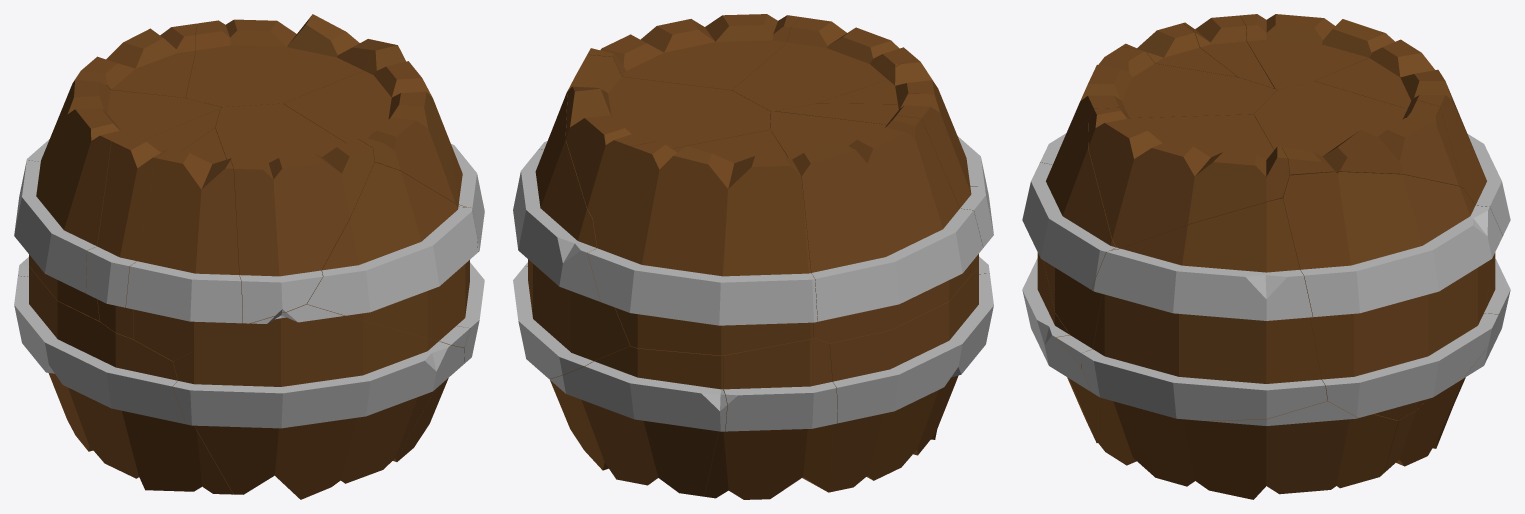
File: LowPolyKegShattered2.fbx
3 views of the same model, side by side, from view 1: azimuth 30°, elevation 25°; view 2: azimuth 150°, elevation 25°; view 3: azimuth 270°, elevation 25° (orthographic). The views are drawn at different scales.
Visible parts, largest first — view 1: Cylinder.002_cell.001, Cylinder.002_cell.013, Cylinder.002_cell.008, Cylinder.002_cell.014, Cylinder.002_cell.005, Cylinder.002_cell.011, Cylinder.002_cell.007, Cylinder.002_cell.002, Cylinder.002_cell.006, Cylinder.002_cell.004, Cylinder.002_cell, Cylinder.002_cell.003; view 2: Cylinder.002_cell.004, Cylinder.002_cell.011, Cylinder.002_cell.008, Cylinder.002_cell.012, Cylinder.002_cell.010, Cylinder.002_cell.009, Cylinder.002_cell.007, Cylinder.002_cell.002, Cylinder.002_cell.013, Cylinder.002_cell.006, Cylinder.002_cell.014; view 3: Cylinder.002_cell.010, Cylinder.002_cell, Cylinder.002_cell.003, Cylinder.002_cell.002, Cylinder.002_cell.007, Cylinder.002_cell.005, Cylinder.002_cell.013, Cylinder.002_cell.004, Cylinder.002_cell.011, Cylinder.002_cell.012, Cylinder.002_cell.001, Cylinder.002_cell.006 (+1 smaller).
Part boxes in pixels (box(x1,y1,x2,y2)): Cylinder.002_cell.001: box(172, 304, 464, 499); Cylinder.002_cell.013: box(215, 103, 374, 323); Cylinder.002_cell.008: box(14, 266, 233, 494); Cylinder.002_cell.014: box(126, 128, 242, 361); Cylinder.002_cell.005: box(307, 162, 477, 347); Cylinder.002_cell.011: box(14, 79, 221, 321); Cylinder.002_cell.007: box(186, 14, 390, 107); Cylinder.002_cell.002: box(283, 43, 464, 207); Cylinder.002_cell.006: box(86, 109, 220, 339); Cylinder.002_cell.004: box(19, 23, 197, 197); Cylinder.002_cell: box(449, 139, 484, 362); Cylinder.002_cell.003: box(393, 378, 448, 461); Cylinder.002_cell.004: box(587, 130, 817, 355); Cylinder.002_cell.011: box(770, 111, 983, 343); Cylinder.002_cell.008: box(829, 269, 993, 492); Cylinder.002_cell.012: box(549, 346, 727, 496); Cylinder.002_cell.010: box(513, 89, 630, 378); Cylinder.002_cell.009: box(704, 338, 837, 499); Cylinder.002_cell.007: box(565, 54, 770, 218); Cylinder.002_cell.002: box(587, 14, 801, 90); Cylinder.002_cell.013: box(732, 17, 958, 136); Cylinder.002_cell.006: box(775, 93, 993, 274); Cylinder.002_cell.014: box(817, 58, 992, 222); Cylinder.002_cell.010: box(1282, 172, 1502, 420); Cylinder.002_cell: box(1081, 198, 1327, 420); Cylinder.002_cell.003: box(1100, 397, 1397, 499); Cylinder.002_cell.002: box(1088, 108, 1289, 249); Cylinder.002_cell.007: box(1254, 81, 1463, 187); Cylinder.002_cell.005: box(1022, 120, 1115, 368); Cylinder.002_cell.013: box(1040, 47, 1276, 164); Cylinder.002_cell.004: box(1315, 39, 1510, 264); Cylinder.002_cell.011: box(1240, 14, 1394, 89); Cylinder.002_cell.012: box(1384, 259, 1510, 472); Cylinder.002_cell.001: box(1022, 252, 1100, 444); Cylinder.002_cell.006: box(1183, 15, 1274, 88).
Size of the model in its own units: 263 by 212 by 269.
